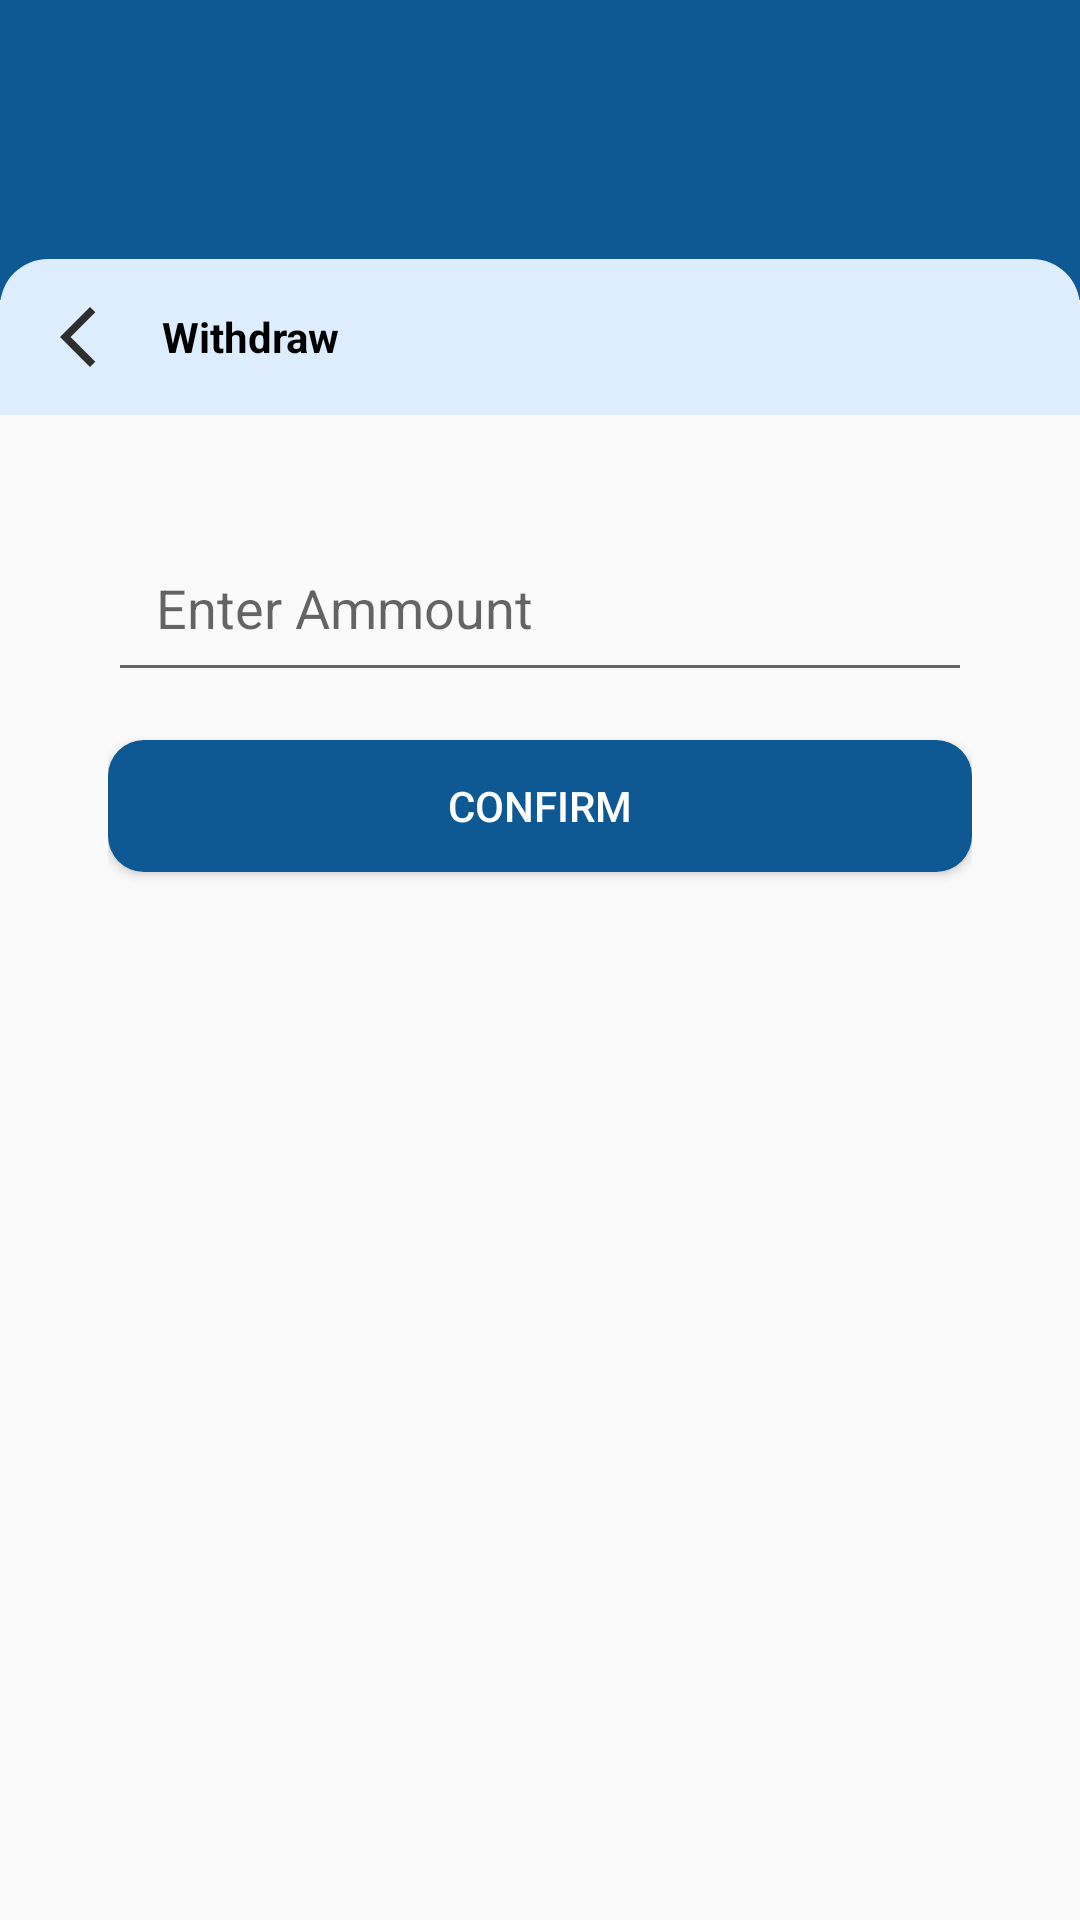

Locate icon controls on the screen. Image size 1080×1920, boxes as bbox=(x1, y1, x2, y2).
arrow backward: bbox=(60, 307, 95, 367)
